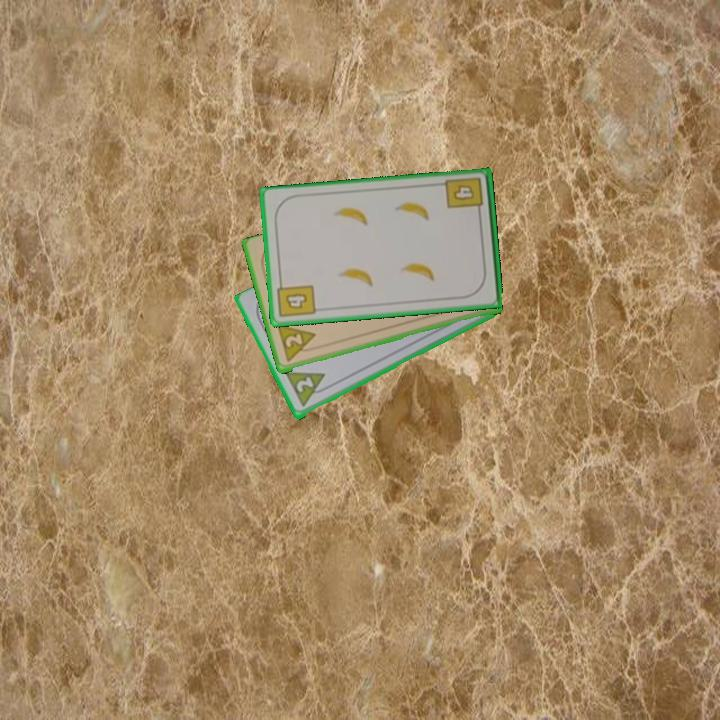2p: (274, 322, 321, 365), (292, 373, 317, 396)
4b: (274, 277, 318, 321), (442, 174, 486, 218)
